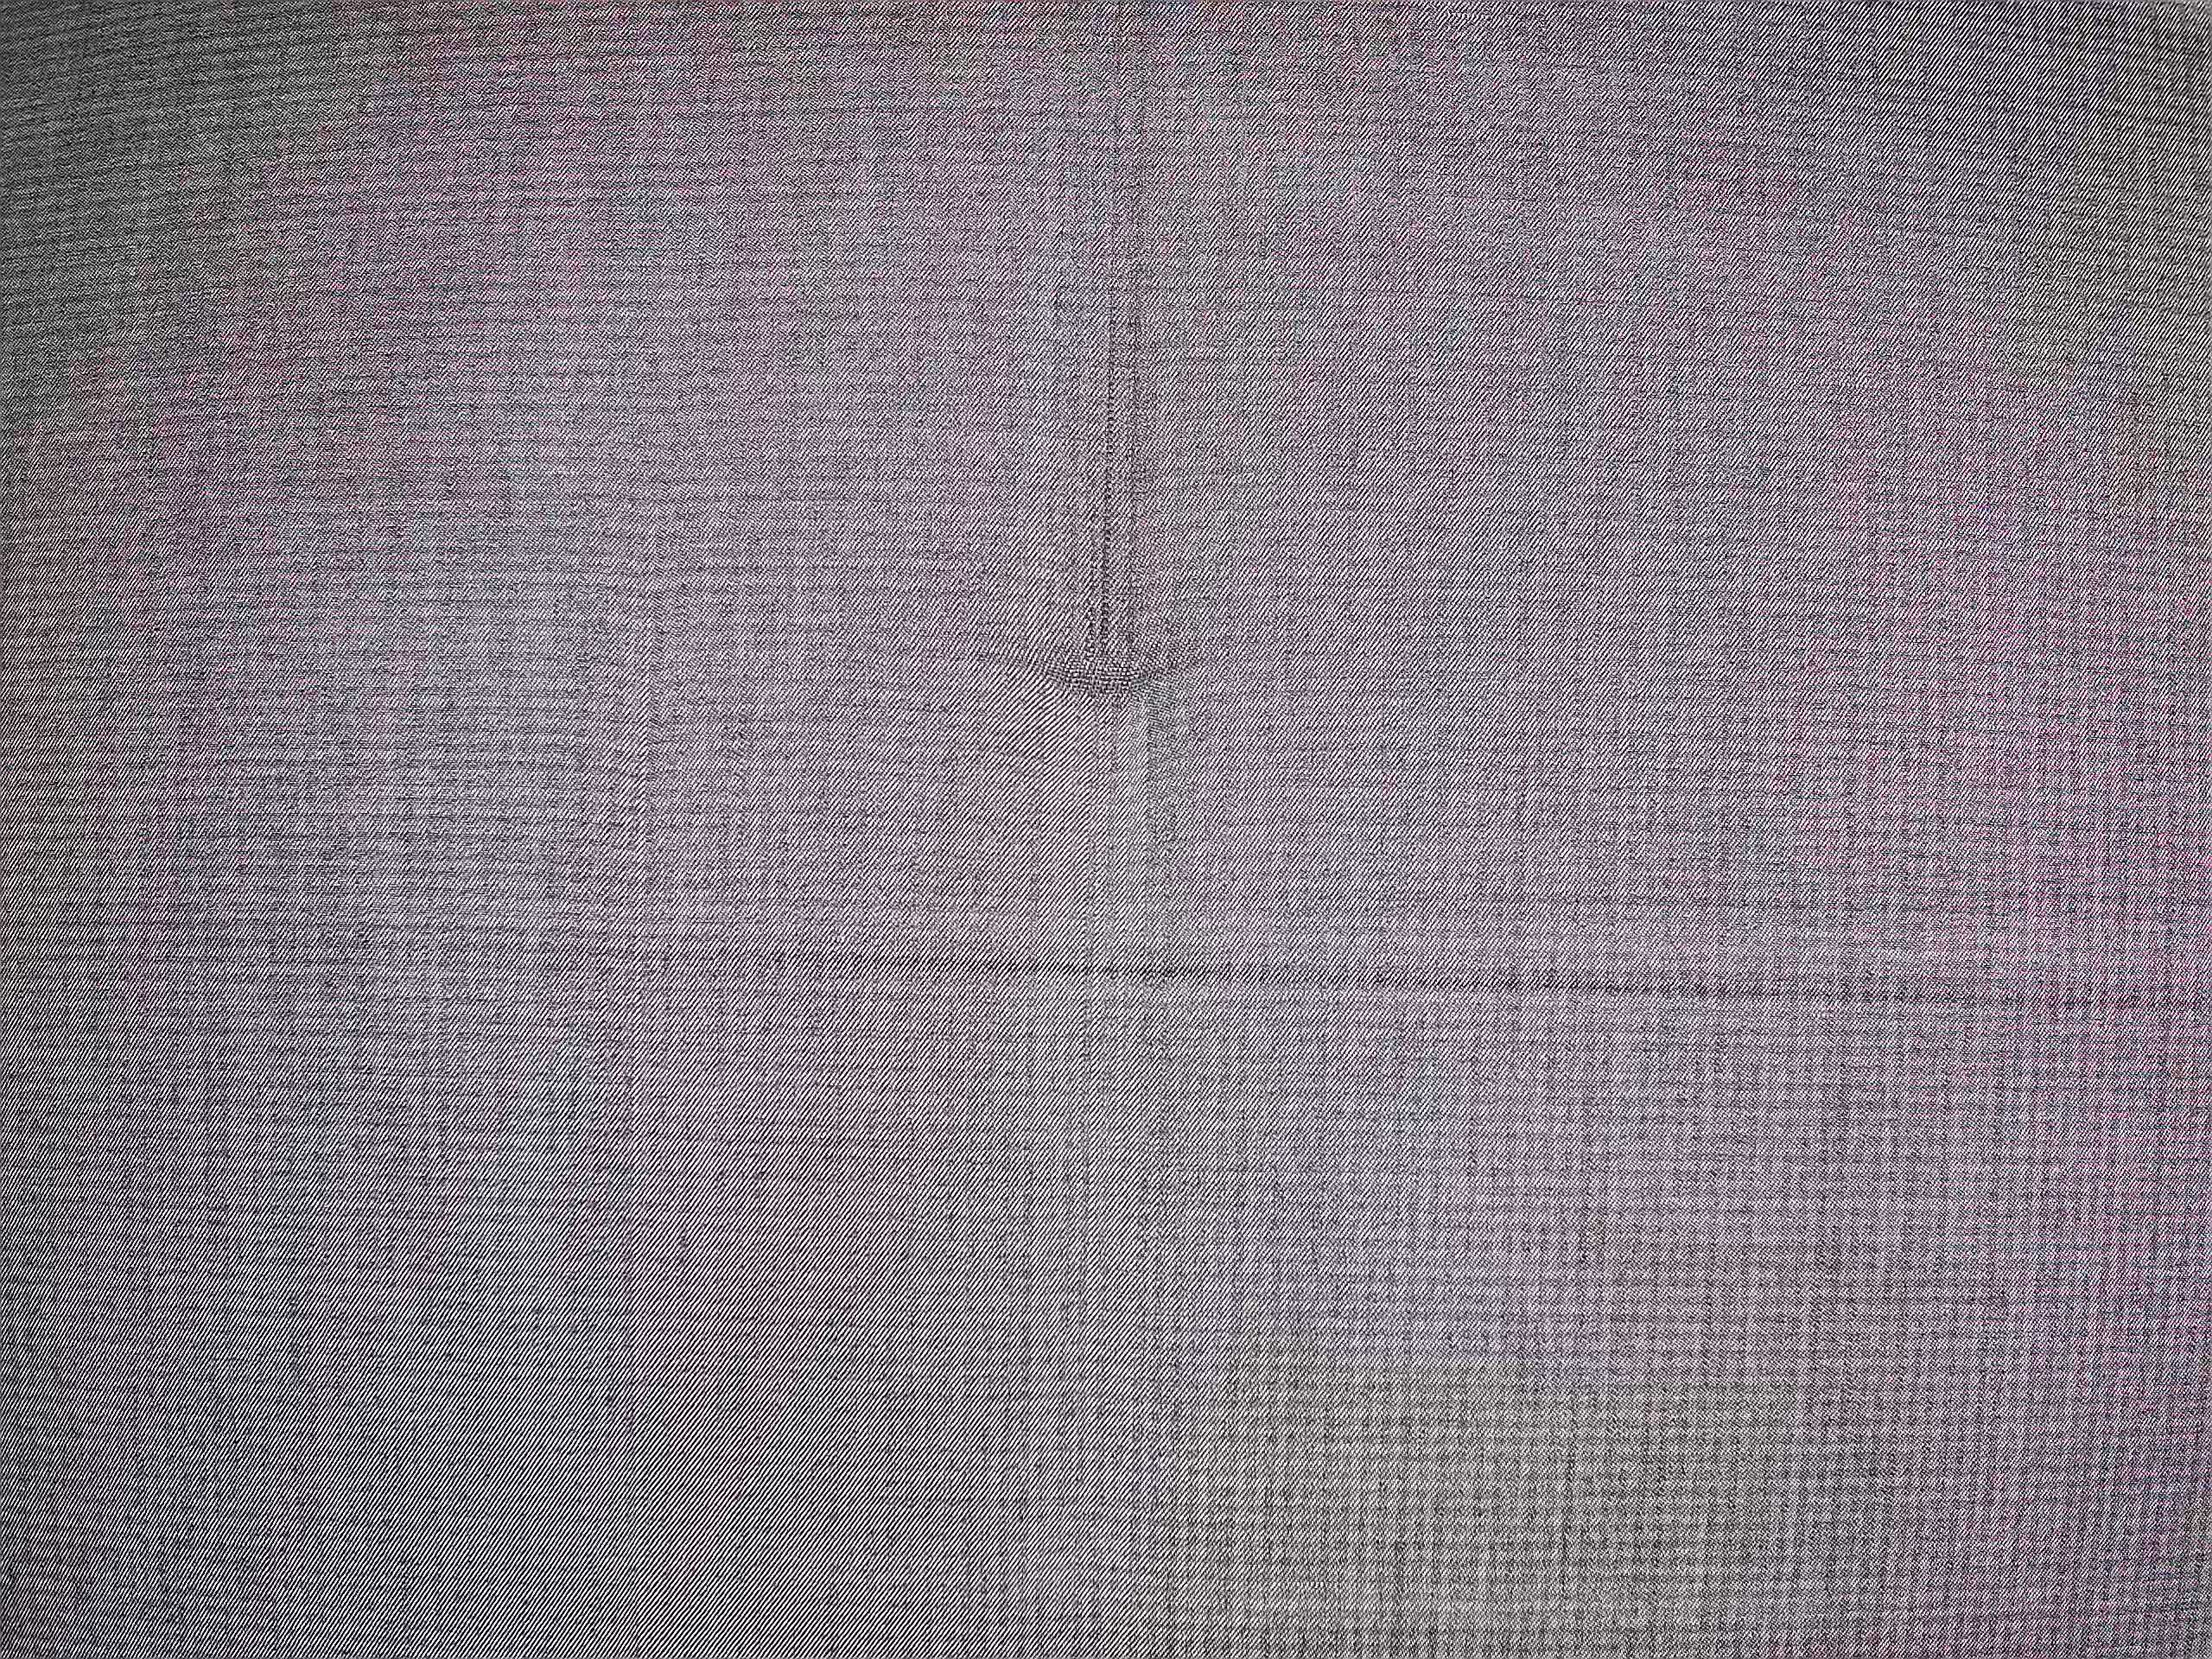hanging-warp: (1033, 14, 1202, 713)
